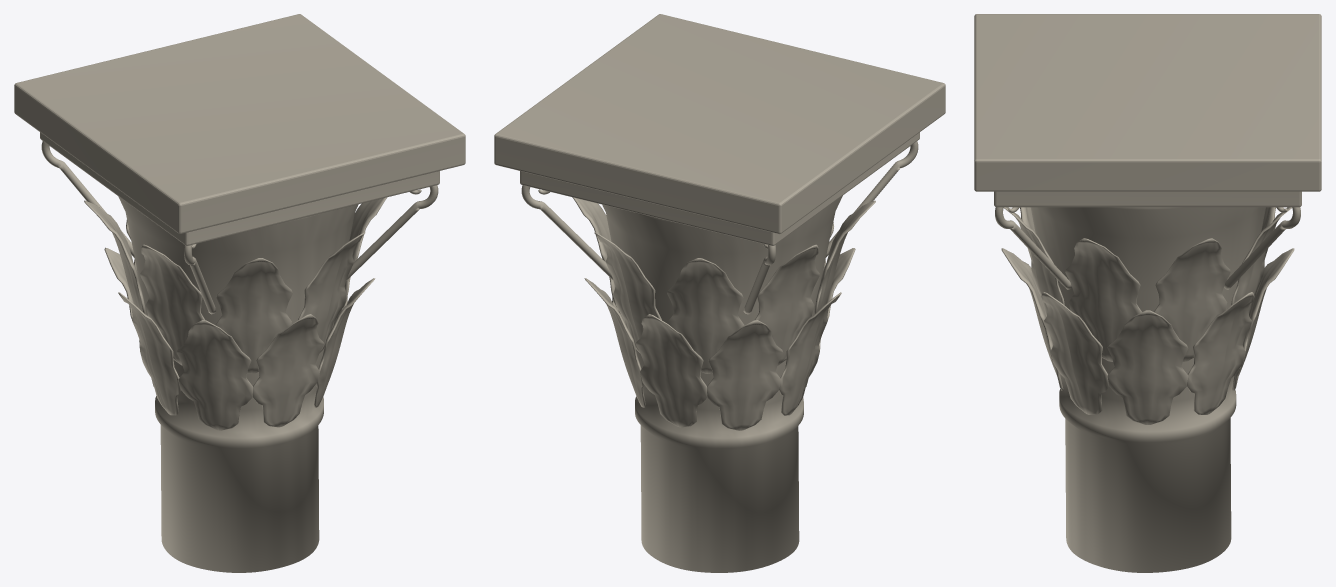
Rendered from herod-capital.glb.
3 renders of one model, left to right at view 1: azimuth 30°, elevation 25°; view 2: azimuth 150°, elevation 25°; view 3: azimuth 270°, elevation 25°, orthographic. The views are drawn at different scales.
Parts seen in each view (by area): view 1: herod-capital-herod-pale-limestone, herod-capital-herod-pale-limestone.004, herod-capital-herod-pale-limestone.011, herod-capital-herod-pale-limestone.003, herod-capital-herod-pale-limestone.012, herod-capital-herod-pale-limestone.010, herod-capital-herod-pale-limestone.005, herod-capital-herod-pale-limestone.002, herod-capital-herod-pale-limestone.013, herod-capital-herod-pale-limestone.009; view 2: herod-capital-herod-pale-limestone, herod-capital-herod-pale-limestone.006, herod-capital-herod-pale-limestone.014, herod-capital-herod-pale-limestone.007, herod-capital-herod-pale-limestone.013, herod-capital-herod-pale-limestone.015, herod-capital-herod-pale-limestone.005, herod-capital-herod-pale-limestone.008, herod-capital-herod-pale-limestone.012, herod-capital-herod-pale-limestone.016, herod-capital-herod-pale-limestone.004; view 3: herod-capital-herod-pale-limestone, herod-capital-herod-pale-limestone.001, herod-capital-herod-pale-limestone.009, herod-capital-herod-pale-limestone.016, herod-capital-herod-pale-limestone.002, herod-capital-herod-pale-limestone.008, herod-capital-herod-pale-limestone.015, herod-capital-herod-pale-limestone.010, herod-capital-herod-pale-limestone.007, herod-capital-herod-pale-limestone.003.
Boxes of the visible parts, box(x1,y1,x2,y2) form: herod-capital-herod-pale-limestone: box(14, 14, 465, 572); herod-capital-herod-pale-limestone.004: box(176, 320, 252, 430); herod-capital-herod-pale-limestone.011: box(215, 258, 292, 373); herod-capital-herod-pale-limestone.003: box(252, 314, 323, 427); herod-capital-herod-pale-limestone.012: box(140, 244, 204, 365); herod-capital-herod-pale-limestone.010: box(298, 232, 365, 353); herod-capital-herod-pale-limestone.005: box(118, 292, 180, 415); herod-capital-herod-pale-limestone.002: box(314, 278, 375, 407); herod-capital-herod-pale-limestone.013: box(84, 200, 146, 314); herod-capital-herod-pale-limestone.009: box(334, 197, 387, 324); herod-capital-herod-pale-limestone: box(494, 14, 945, 572); herod-capital-herod-pale-limestone.006: box(707, 320, 783, 430); herod-capital-herod-pale-limestone.014: box(667, 258, 744, 373); herod-capital-herod-pale-limestone.007: box(636, 314, 707, 427); herod-capital-herod-pale-limestone.013: box(755, 244, 819, 365); herod-capital-herod-pale-limestone.015: box(594, 232, 661, 352); herod-capital-herod-pale-limestone.005: box(779, 292, 841, 415); herod-capital-herod-pale-limestone.008: box(584, 278, 645, 407); herod-capital-herod-pale-limestone.012: box(813, 200, 875, 314); herod-capital-herod-pale-limestone.016: box(572, 197, 625, 323); herod-capital-herod-pale-limestone.004: box(806, 248, 855, 386); herod-capital-herod-pale-limestone: box(974, 14, 1321, 572); herod-capital-herod-pale-limestone.001: box(1107, 310, 1188, 424); herod-capital-herod-pale-limestone.009: box(1065, 238, 1141, 361); herod-capital-herod-pale-limestone.016: box(1154, 238, 1230, 361); herod-capital-herod-pale-limestone.002: box(1041, 292, 1108, 414); herod-capital-herod-pale-limestone.008: box(1187, 292, 1254, 414); herod-capital-herod-pale-limestone.015: box(1231, 207, 1292, 316); herod-capital-herod-pale-limestone.010: box(1003, 207, 1064, 316); herod-capital-herod-pale-limestone.007: box(1232, 248, 1294, 390); herod-capital-herod-pale-limestone.003: box(1001, 248, 1063, 390).
Size of the model in its own units: 0.53 by 0.76 by 0.53.
